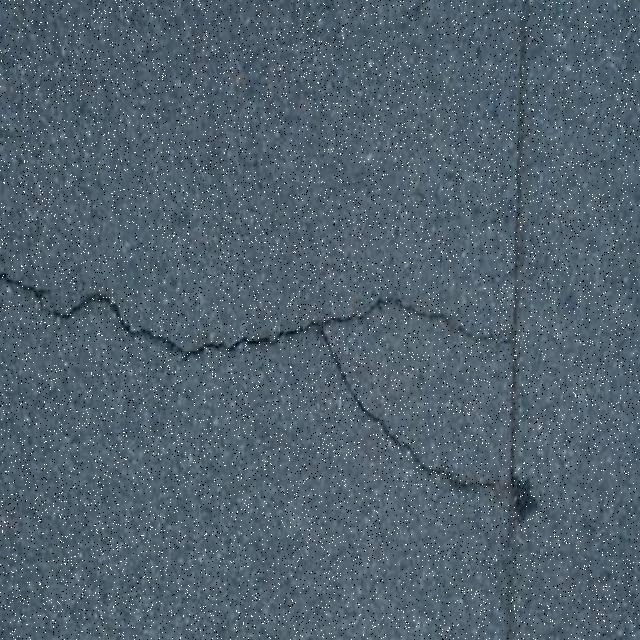Crack: (0, 275, 516, 509), (505, 0, 528, 639)
